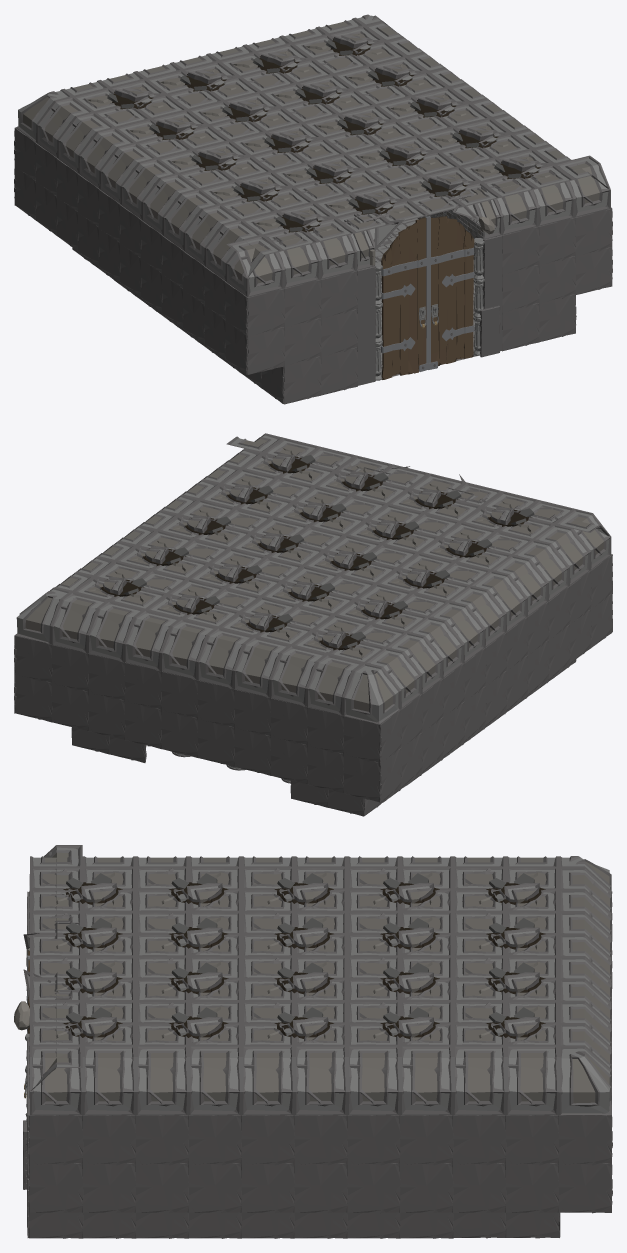
Rendered from sample.fbx.
3 renders of one model, top to bottom at view 1: azimuth 30°, elevation 25°; view 2: azimuth 150°, elevation 25°; view 3: azimuth 270°, elevation 25°, orthographic. The views are drawn at different scales.
Parts seen in each view (by area): view 1: SM_Env_DoorDouble_Round_1, SM_Env_DoorDouble_Round_2, SM_Env_Ceiling_Stone_Flat_231, SM_Env_Ceiling_Stone_Flat_233, SM_Env_Ceiling_Stone_Flat_232, SM_Env_Ceiling_Stone_Flat_236, SM_Env_Ceiling_Stone_Flat_240, SM_Env_Ceiling_Stone_Flat_237, SM_Env_Ceiling_Stone_Flat_241, SM_Env_Ceiling_Stone_Flat_234, SM_Env_Ceiling_Stone_Flat_242, SM_Env_Ceiling_Stone_Flat_229 (+74 smaller); view 2: SM_Env_Ceiling_Stone_Flat_237, SM_Env_Ceiling_Stone_Flat_241, SM_Env_Ceiling_Stone_Flat_233, SM_Env_Ceiling_Stone_Flat_232, SM_Env_Ceiling_Stone_Flat_240, SM_Env_Ceiling_Stone_Flat_230, SM_Env_Ceiling_Stone_Flat_238, SM_Env_Ceiling_Stone_Flat_229, SM_Env_Ceiling_Stone_Flat_228, SM_Env_Ceiling_Stone_Flat_236, SM_Env_Ceiling_Stone_Flat_234, SM_Env_Ceiling_Stone_Flat_235 (+74 smaller); view 3: SM_Env_Ceiling_Stone_Flat_228, SM_Env_Ceiling_Stone_Flat_240, SM_Env_Ceiling_Stone_Flat_232, SM_Env_Ceiling_Stone_Flat_236, SM_Env_Ceiling_Stone_Flat_229, SM_Env_Ceiling_Stone_Flat_227, SM_Env_Ceiling_Stone_Flat_241, SM_Env_Ceiling_Stone_Flat_239, SM_Env_Ceiling_Stone_Flat_230, SM_Env_Ceiling_Stone_Flat_242, SM_Env_Ceiling_Stone_Flat_233, SM_Env_Ceiling_Stone_Flat_231 (+71 smaller).
Part boxes in pixels (bbox=[...]): SM_Env_DoorDouble_Round_1: bbox=[381, 216, 428, 379]; SM_Env_DoorDouble_Round_2: bbox=[428, 216, 474, 369]; SM_Env_Ceiling_Stone_Flat_231: bbox=[115, 110, 229, 158]; SM_Env_Ceiling_Stone_Flat_233: bbox=[261, 74, 374, 122]; SM_Env_Ceiling_Stone_Flat_232: bbox=[188, 92, 301, 140]; SM_Env_Ceiling_Stone_Flat_236: bbox=[230, 123, 344, 171]; SM_Env_Ceiling_Stone_Flat_240: bbox=[272, 154, 386, 202]; SM_Env_Ceiling_Stone_Flat_237: bbox=[303, 105, 416, 153]; SM_Env_Ceiling_Stone_Flat_241: bbox=[345, 136, 459, 184]; SM_Env_Ceiling_Stone_Flat_234: bbox=[333, 56, 447, 104]; SM_Env_Ceiling_Stone_Flat_242: bbox=[418, 118, 531, 166]; SM_Env_Ceiling_Stone_Flat_229: bbox=[219, 43, 332, 91]; SM_Env_Ceiling_Stone_Flat_237: bbox=[231, 517, 344, 565]; SM_Env_Ceiling_Stone_Flat_241: bbox=[272, 486, 386, 534]; SM_Env_Ceiling_Stone_Flat_233: bbox=[188, 548, 302, 596]; SM_Env_Ceiling_Stone_Flat_232: bbox=[261, 566, 375, 614]; SM_Env_Ceiling_Stone_Flat_240: bbox=[346, 504, 459, 552]; SM_Env_Ceiling_Stone_Flat_230: bbox=[73, 561, 187, 609]; SM_Env_Ceiling_Stone_Flat_238: bbox=[157, 499, 271, 547]; SM_Env_Ceiling_Stone_Flat_229: bbox=[146, 579, 260, 627]; SM_Env_Ceiling_Stone_Flat_228: bbox=[219, 596, 333, 645]; SM_Env_Ceiling_Stone_Flat_236: bbox=[303, 535, 417, 583]; SM_Env_Ceiling_Stone_Flat_234: bbox=[115, 530, 229, 578]; SM_Env_Ceiling_Stone_Flat_235: bbox=[376, 553, 490, 601]; SM_Env_Ceiling_Stone_Flat_228: bbox=[452, 911, 558, 956]; SM_Env_Ceiling_Stone_Flat_240: bbox=[135, 911, 241, 956]; SM_Env_Ceiling_Stone_Flat_232: bbox=[347, 911, 452, 956]; SM_Env_Ceiling_Stone_Flat_236: bbox=[241, 911, 346, 956]; SM_Env_Ceiling_Stone_Flat_229: bbox=[452, 956, 558, 1000]; SM_Env_Ceiling_Stone_Flat_227: bbox=[452, 867, 558, 911]; SM_Env_Ceiling_Stone_Flat_241: bbox=[135, 956, 241, 1000]; SM_Env_Ceiling_Stone_Flat_239: bbox=[135, 867, 241, 911]; SM_Env_Ceiling_Stone_Flat_230: bbox=[452, 1001, 558, 1045]; SM_Env_Ceiling_Stone_Flat_242: bbox=[135, 1001, 241, 1045]; SM_Env_Ceiling_Stone_Flat_233: bbox=[347, 956, 452, 1000]; SM_Env_Ceiling_Stone_Flat_231: bbox=[347, 867, 452, 911].
Size of the model in its own units: 5665 by 5031 by 2096.
